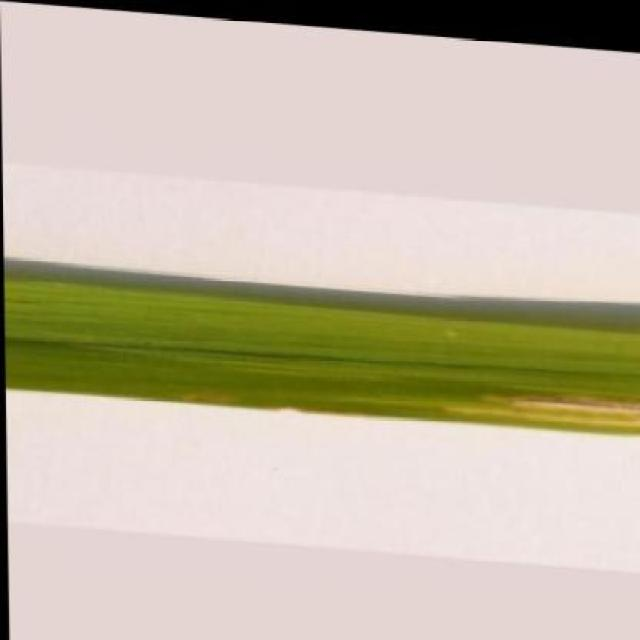Brown_Spot: (3, 270, 640, 435)
